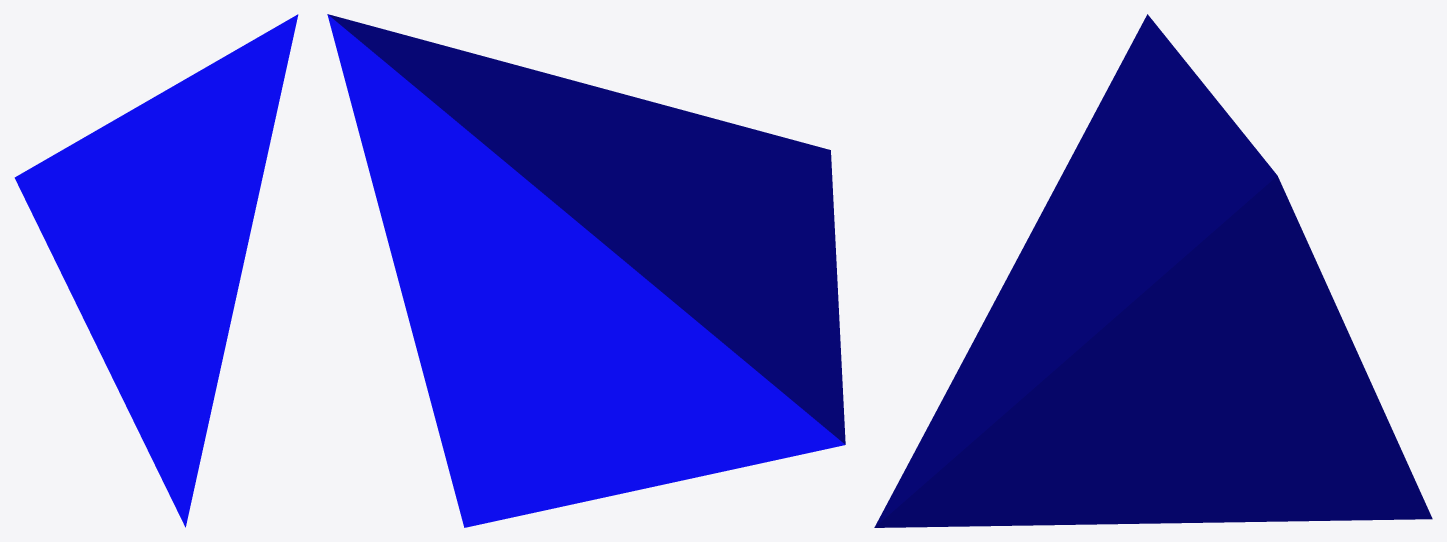
The model's file is type2.glb.
The picture shows the model from 3 angles, left to right: view 1: azimuth 30°, elevation 25°; view 2: azimuth 150°, elevation 25°; view 3: azimuth 270°, elevation 25°; orthographic projection. The views are drawn at different scales.
Parts seen in each view (by area): view 1: type2; view 2: type2; view 3: type2.
Boxes of the visible parts, left/top/right/bottom form: type2: left=14, top=14, right=298, bottom=527; type2: left=327, top=14, right=845, bottom=527; type2: left=874, top=14, right=1432, bottom=527.
Bounding box in the file's own units: 1.45 × 1.5 × 1.42.
